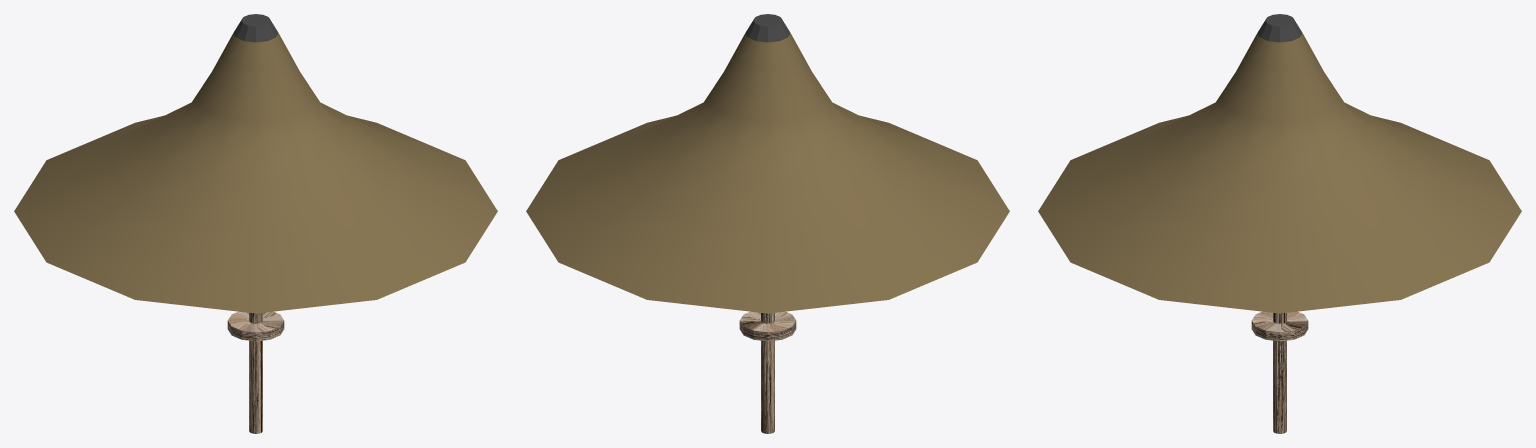
The model's file is BeachUmbrella.fbx.
The picture shows the model from 3 angles, left to right: view 1: azimuth 30°, elevation 25°; view 2: azimuth 150°, elevation 25°; view 3: azimuth 270°, elevation 25°; orthographic projection.
Parts seen in each view (by area): view 1: Roof, WoodenPole; view 2: Roof, WoodenPole; view 3: Roof, WoodenPole.
Boxes of the visible parts, <box> form: Roof: <box>14,14,497,313</box>; WoodenPole: <box>227,311,284,433</box>; Roof: <box>526,14,1009,313</box>; WoodenPole: <box>739,311,796,433</box>; Roof: <box>1038,14,1521,313</box>; WoodenPole: <box>1251,311,1308,433</box>.
Size of the model in its own units: 161 by 151 by 161.
